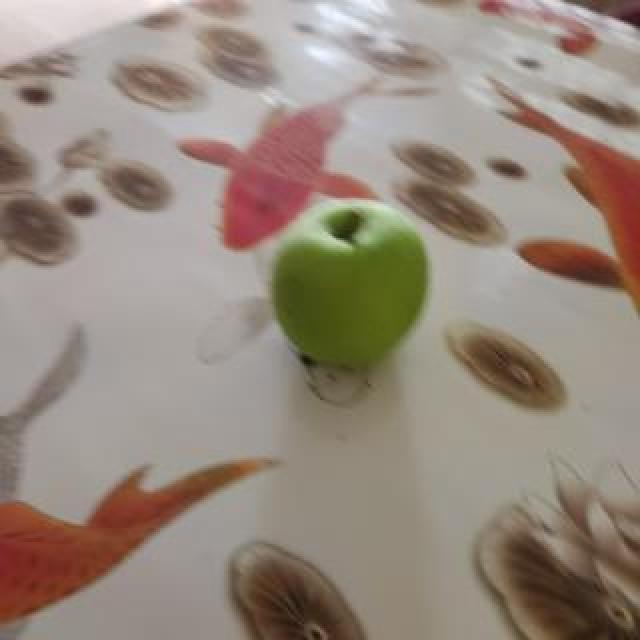Fresh Apple: (251, 206, 429, 366)
